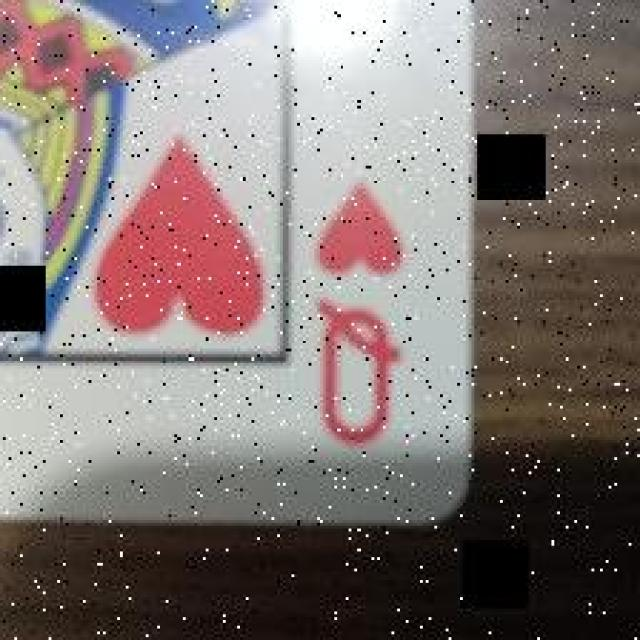Queen of hearts: (0, 0, 474, 525)
